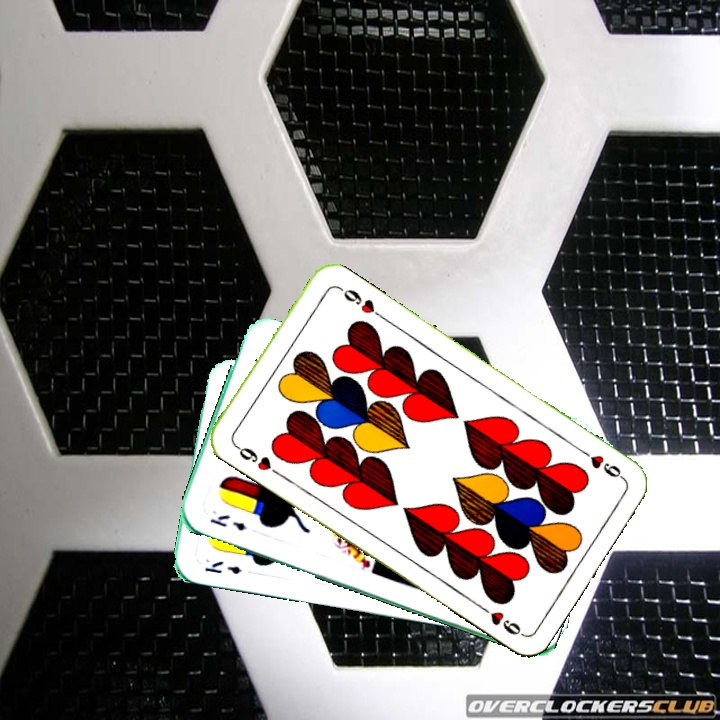EK: (206, 510, 250, 534), (201, 557, 245, 577)
H9: (574, 444, 627, 482), (230, 440, 274, 474)
